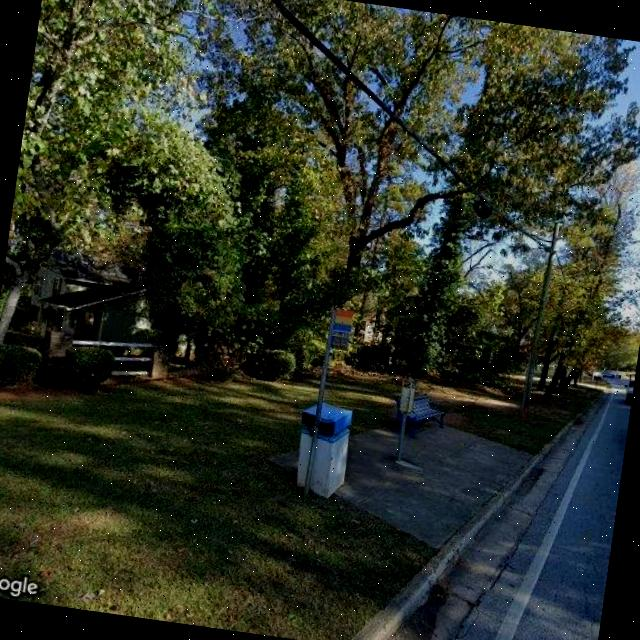seating: (384, 387, 449, 443)
trash_can: (290, 399, 356, 501)
